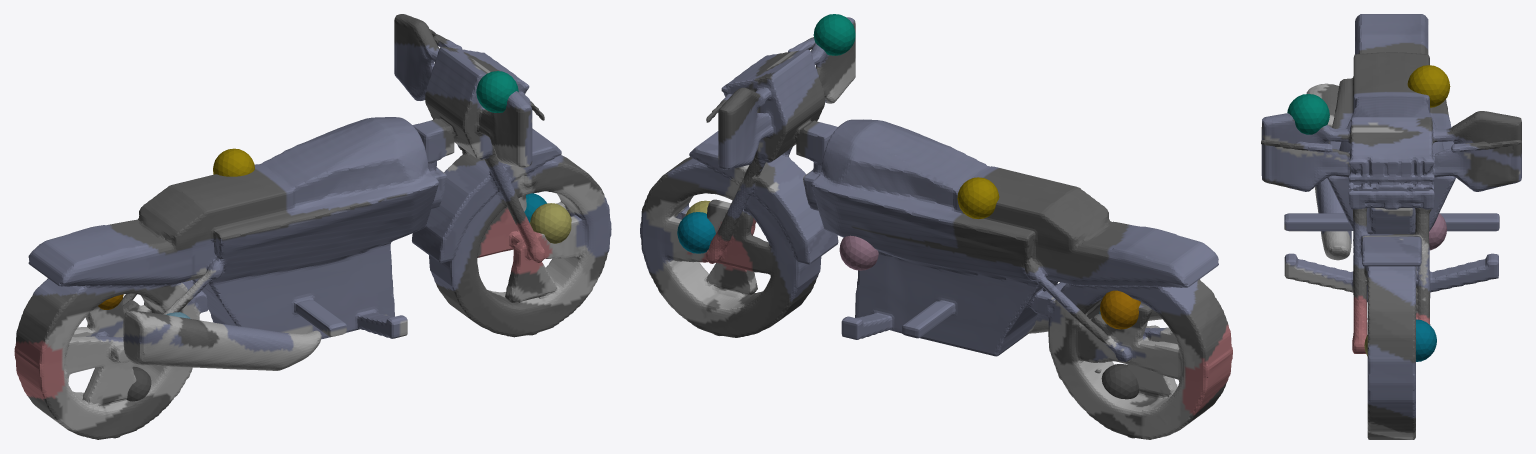
Rendered from triposg_marked_anchors.glb.
3 renders of one model, left to right at view 1: azimuth 30°, elevation 25°; view 2: azimuth 150°, elevation 25°; view 3: azimuth 270°, elevation 25°, orthographic. The views are drawn at different scales.
Parts seen in each view (by area): view 1: world, anchor_02_rgb_000_070_051, anchor_06_rgb_106_100_029, anchor_05_rgb_101_070_000, anchor_07_rgb_022_022_022; view 2: world, anchor_02_rgb_000_070_051, anchor_05_rgb_101_070_000, anchor_00_rgb_094_041_000, anchor_01_rgb_000_050_078, anchor_03_rgb_090_053_073, anchor_07_rgb_022_022_022; view 3: world, anchor_02_rgb_000_070_051, anchor_05_rgb_101_070_000, anchor_01_rgb_000_050_078, anchor_03_rgb_090_053_073.
Part boxes in pixels (x1,y1,x2,y2): world: (14, 14, 611, 439); anchor_02_rgb_000_070_051: (476, 71, 518, 112); anchor_06_rgb_106_100_029: (530, 203, 571, 243); anchor_05_rgb_101_070_000: (213, 148, 254, 176); anchor_07_rgb_022_022_022: (126, 366, 151, 401); world: (640, 17, 1232, 439); anchor_02_rgb_000_070_051: (813, 14, 855, 55); anchor_05_rgb_101_070_000: (957, 177, 999, 219); anchor_00_rgb_094_041_000: (1100, 290, 1140, 329); anchor_01_rgb_000_050_078: (677, 212, 715, 253); anchor_03_rgb_090_053_073: (839, 235, 878, 270); anchor_07_rgb_022_022_022: (1101, 364, 1139, 399); world: (1261, 14, 1521, 439); anchor_02_rgb_000_070_051: (1287, 94, 1329, 134); anchor_05_rgb_101_070_000: (1407, 65, 1450, 107); anchor_01_rgb_000_050_078: (1416, 319, 1436, 361); anchor_03_rgb_090_053_073: (1429, 213, 1446, 250).
Bounding box in the file's own units: 1.87 × 0.9362 × 0.7278.
